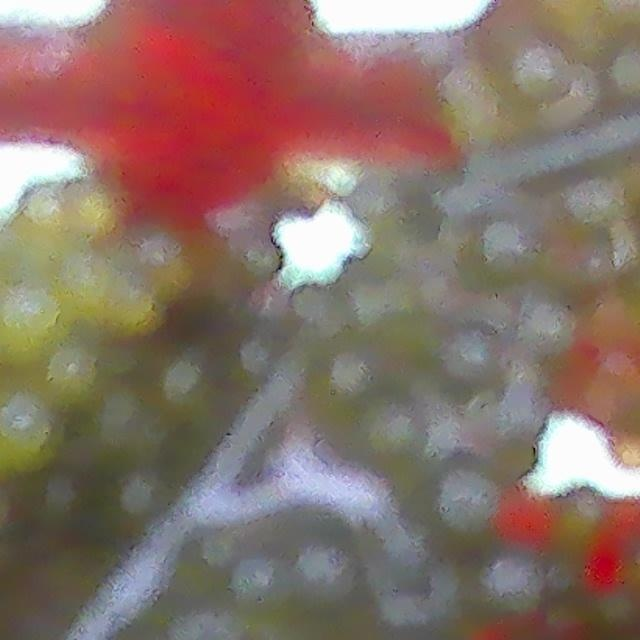SeaGrape: (34, 338, 105, 420), (0, 283, 61, 364), (129, 227, 193, 301), (60, 249, 121, 326), (7, 182, 73, 250), (66, 189, 126, 245), (0, 402, 49, 468)
